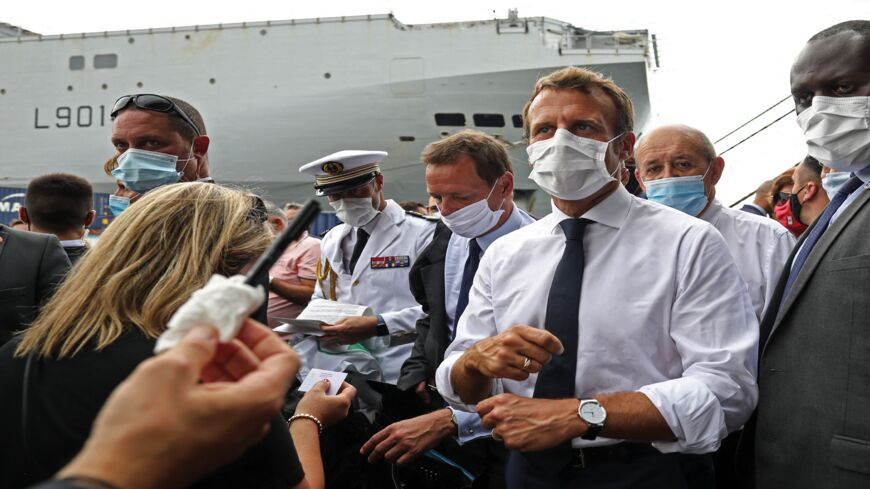with_mask: (791, 54, 870, 163), (531, 97, 617, 191), (427, 163, 506, 231), (111, 116, 188, 185), (642, 141, 713, 214), (328, 181, 376, 227)
